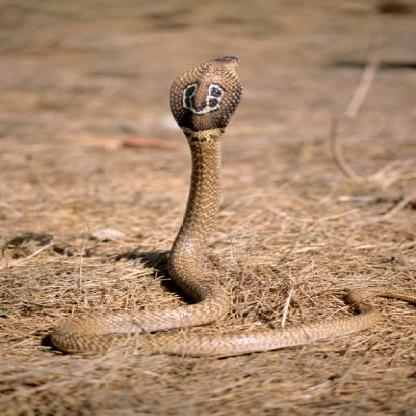Snake: (45, 53, 375, 355)
